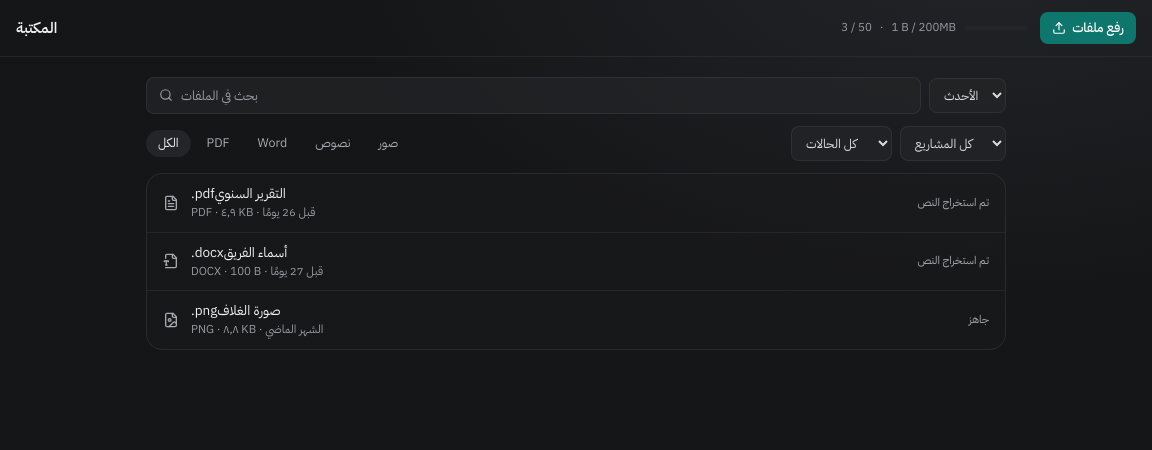
المكتبة: الإجراءات › الربط بمشروع وفكّه عبر PATCH القائم، مع إعلان أن الملف باقٍ
The width and height of the screenshot is (1152, 450).
Step 1. Click the button "أسماء الفريق.docx DOCX · 100 B · قبل 27 يومًا" → (255, 252), box [163,232,905,290]
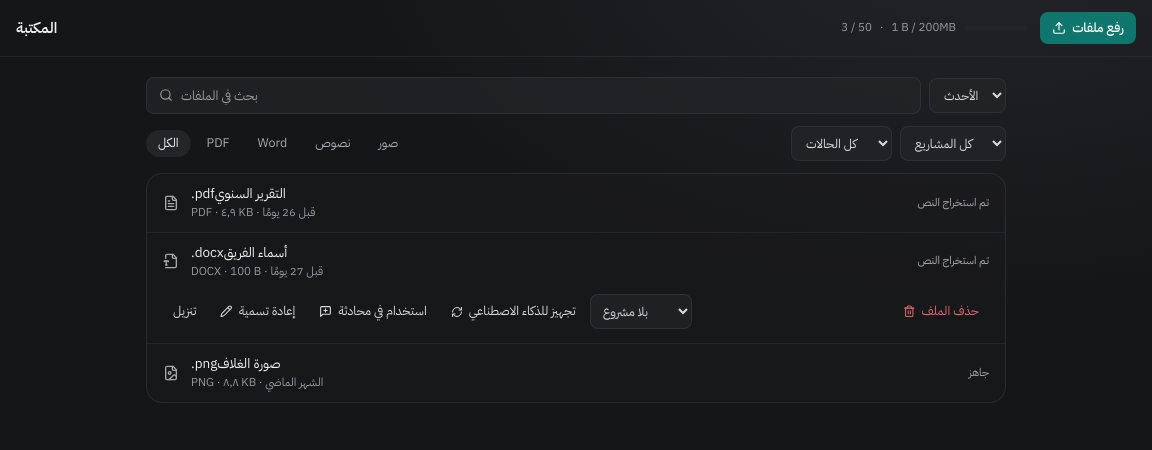
Step 2. Select "مشروع المتجر" in the dropdown named "المشروع" → (641, 312), box [590,294,692,329]
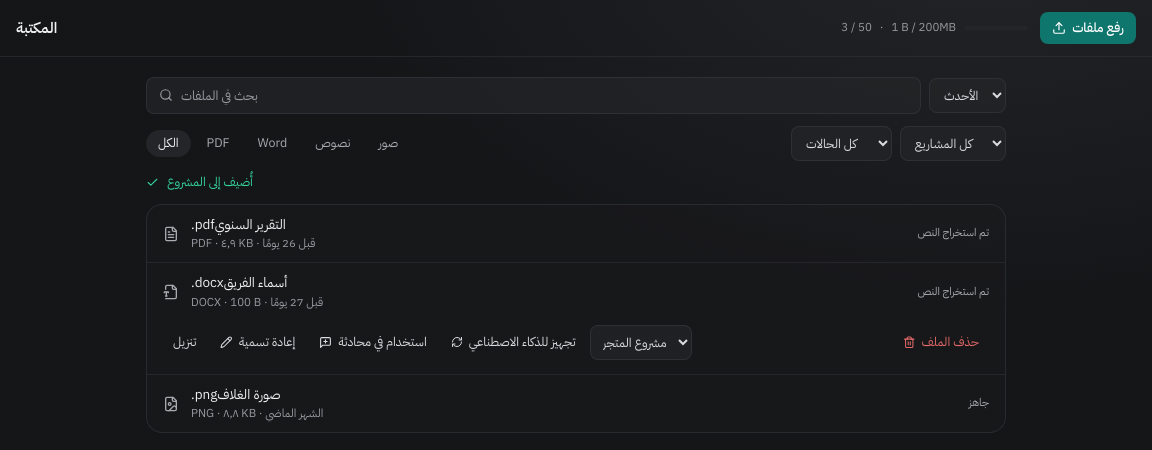
Check: the message reads "أُضيف إلى المشروع", box [167,172,253,191]
Step 3. Select "بلا مشروع" in the dropdown named "المشروع" → (641, 342), box [590,325,692,360]
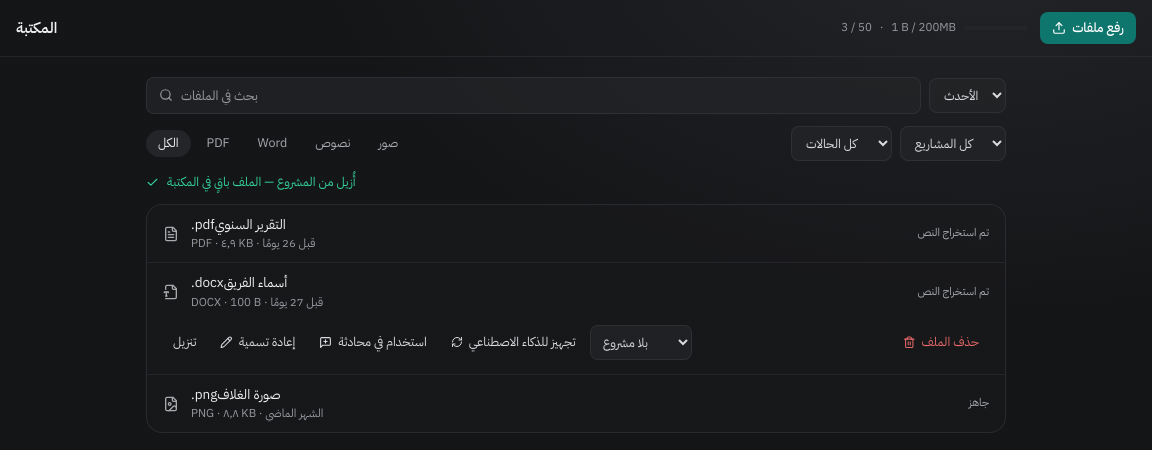
Check: the message shows "الملف باقٍ في المكتبة", box [167,172,356,191]
